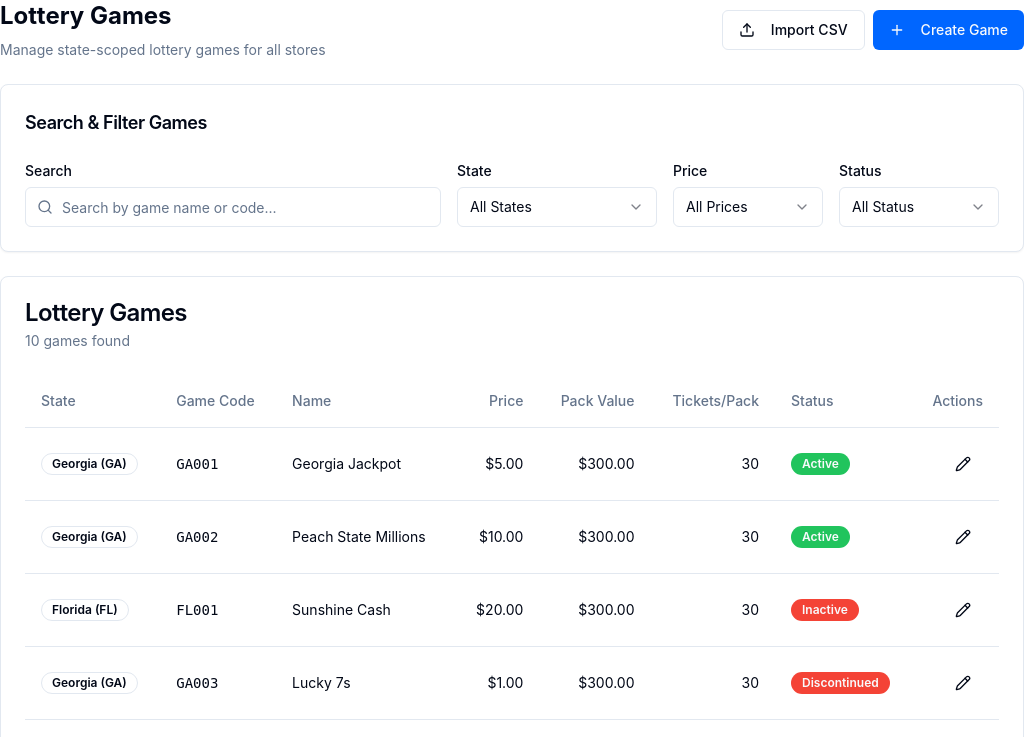
it: Super Admin Lottery Page: Search Functionality › SADMIN-SEARCH-002: [P1] should filter games by name when searching
Expected: the text "Georgia Jackpot" is shown, [276,428,450,500]
Note: User types in search box
Type "Jackpot" into the field with test id "search-games-input" at (233, 207), box [25,187,441,227]
Wait 350 ms
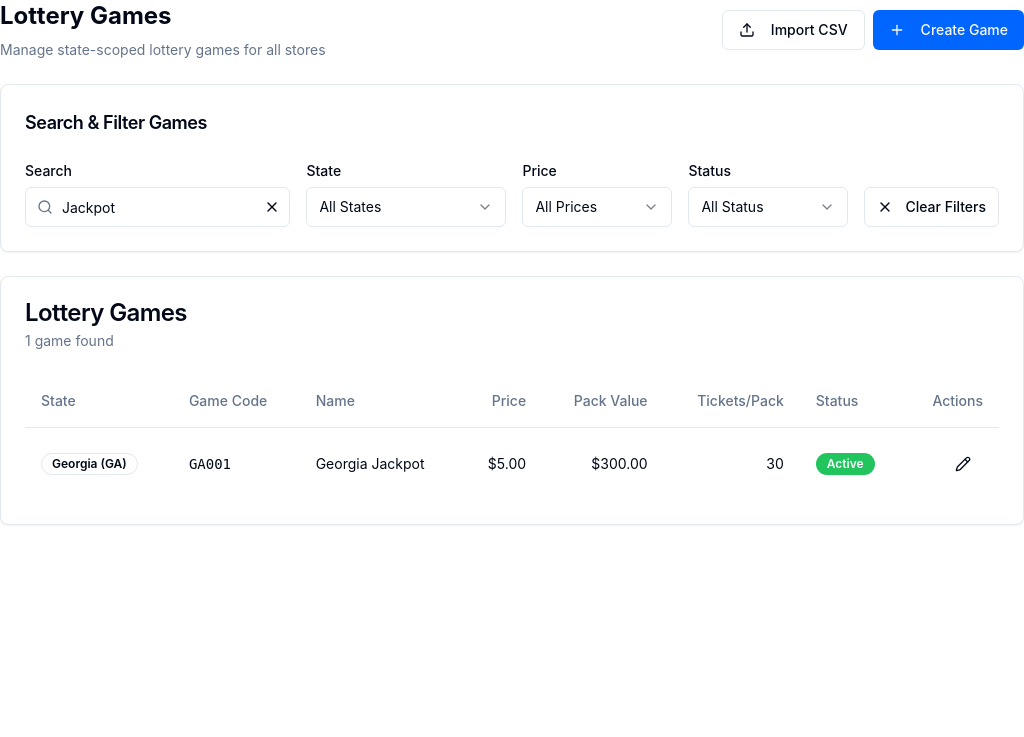
Expected: the text "Georgia Jackpot" is shown, [300,428,462,500]
Expected: the text "Sunshine Cash" is gone
